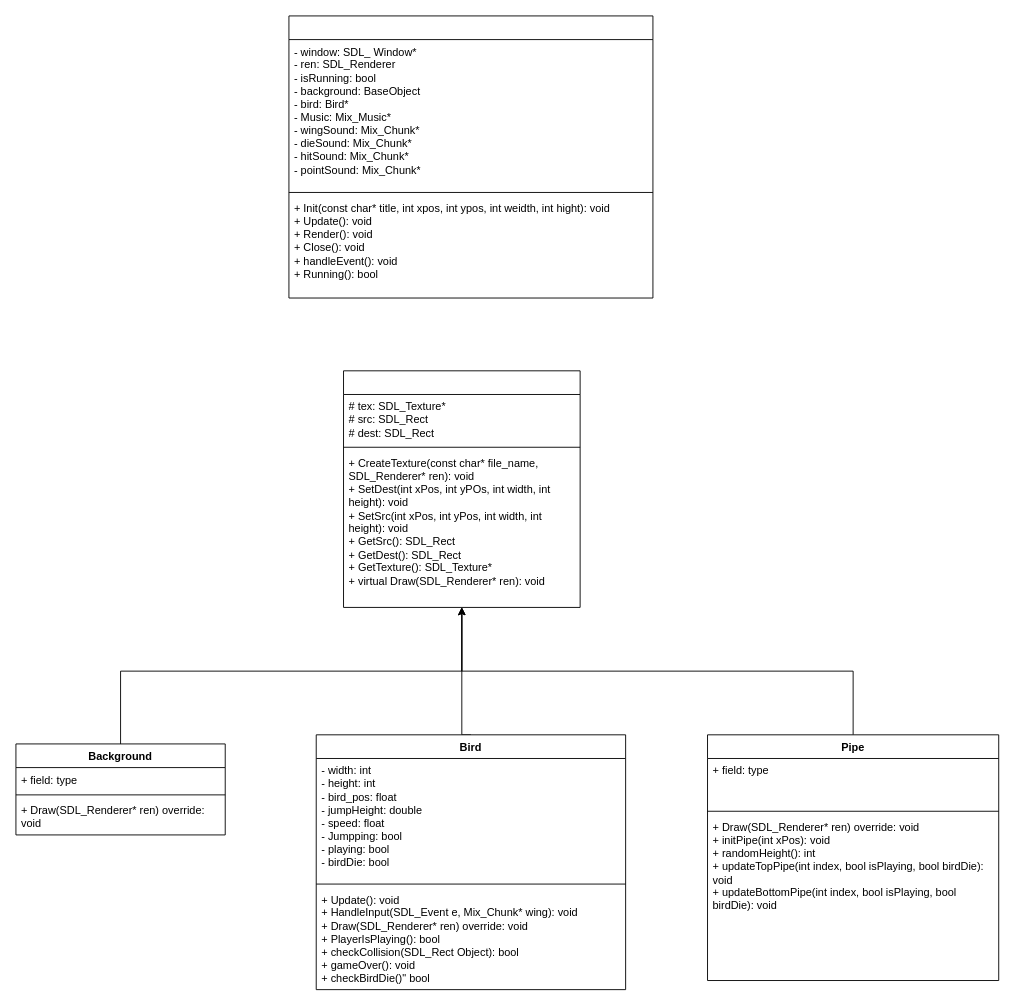
Some shapes in this 1015 by 1008 pixel diagram are drawn without their labels. The shapes that lost their labels are listed below. From the top down, each one's box as (x1, y1, x2, y2) in pixels, then its label:
(288, 15, 653, 298): Game
(343, 370, 580, 607): BaseObject
